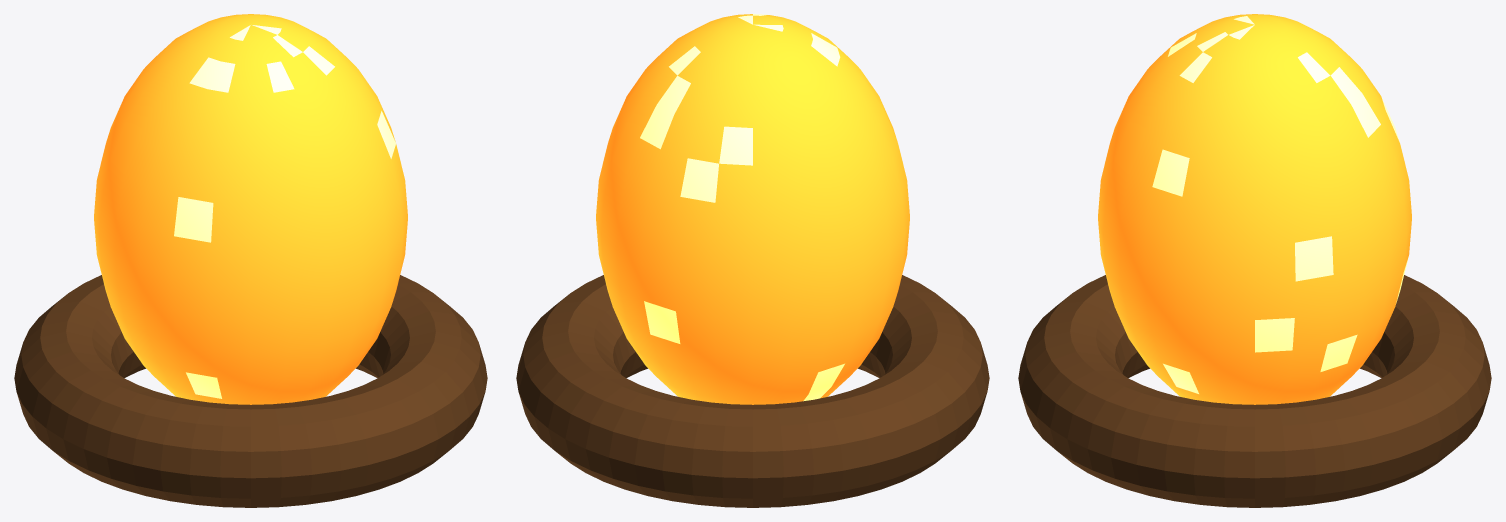
File: phoenix_egg.glb
3 views of the same model, side by side, from view 1: azimuth 30°, elevation 25°; view 2: azimuth 150°, elevation 25°; view 3: azimuth 270°, elevation 25° (orthographic).
Visible parts, largest first — view 1: Egg, Nest; view 2: Egg, Nest; view 3: Egg, Nest.
Part boxes in pixels (x1,y1,x2,y2): Egg: (94, 14, 407, 404); Nest: (14, 275, 487, 507); Egg: (596, 14, 909, 404); Nest: (516, 275, 989, 507); Egg: (1098, 14, 1411, 404); Nest: (1018, 275, 1491, 507).
Size of the model in its own units: 1.28 by 1.2 by 1.28.
